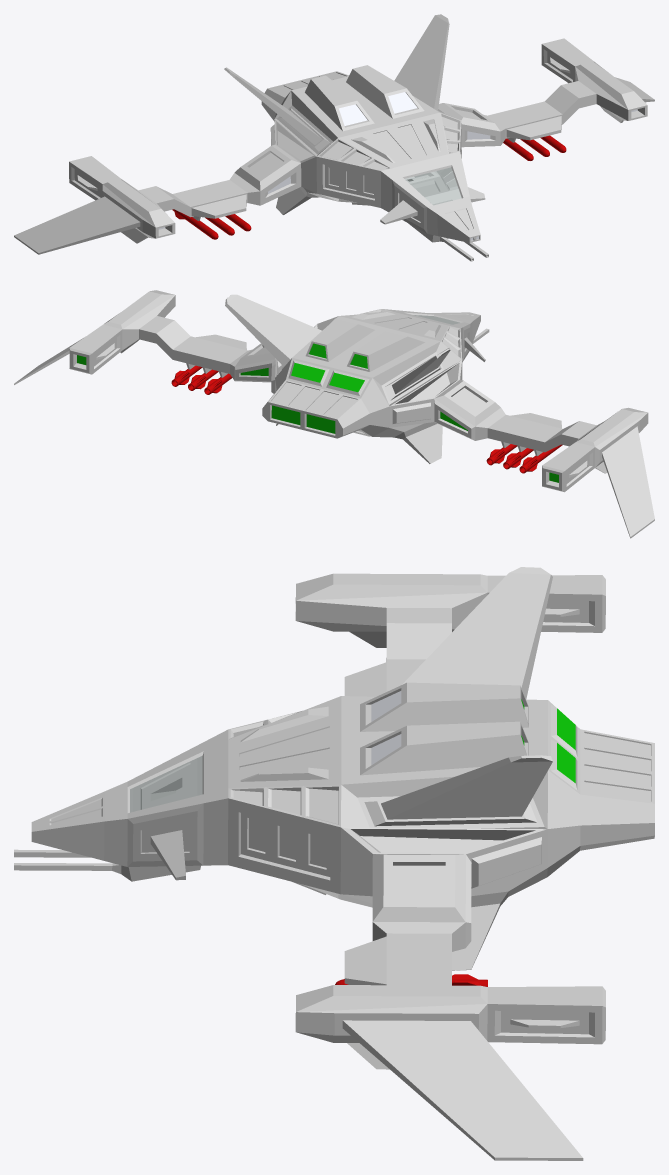
Rendered from Fighter_02.obj.
The picture shows the model from 3 angles, top to bottom: view 1: azimuth 30°, elevation 25°; view 2: azimuth 150°, elevation 25°; view 3: azimuth 270°, elevation 25°; orthographic projection. The views are drawn at different scales.
Visible parts, largest first — view 1: Fighter_02_Cube.001; view 2: Fighter_02_Cube.001; view 3: Fighter_02_Cube.001.
Boxes of the visible parts, bbox=[...] form: Fighter_02_Cube.001: bbox=[14, 14, 654, 261]; Fighter_02_Cube.001: bbox=[14, 290, 654, 538]; Fighter_02_Cube.001: bbox=[14, 567, 654, 1160].
Size of the model in its own units: 16.41 by 3.43 by 8.2.
